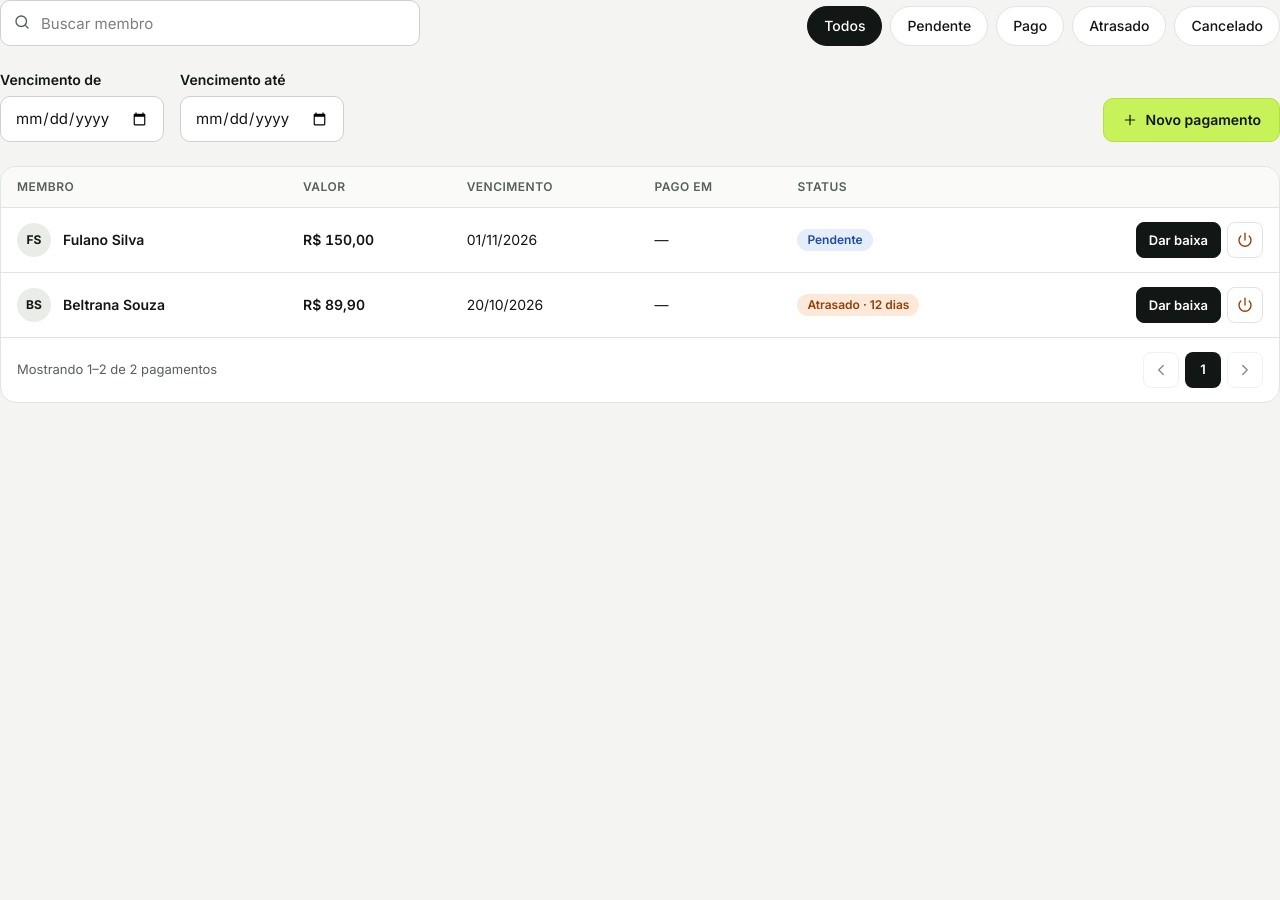
Test: TelaPagamentos › registra o pagamento sem data, avisa e mostra a linha recarregada como Pago, sem ações
Expected: the text "Fulano Silva" is shown, [63,230,144,250]
Click the button with aria-label "Registrar pagamento de Fulano Silva" at (1178, 240), box [1136,222,1221,258]
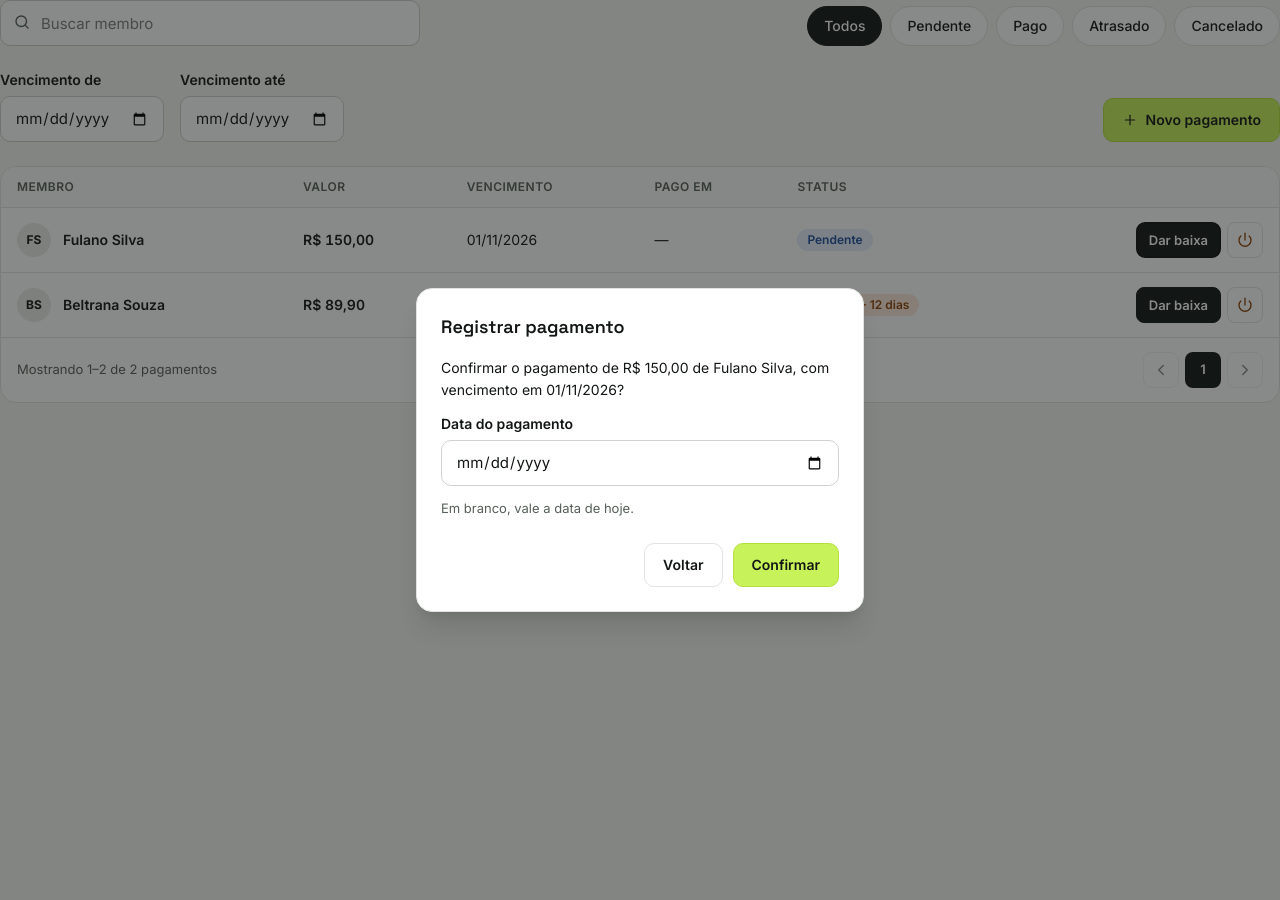
Now the date field labelled "Data do pagamento" is empty, box [441,440,839,486]
Now the text "Em branco, vale a data de hoje." is shown, box [441,500,634,516]
Click the button "Confirmar" at (786, 565), box [732,543,839,587]
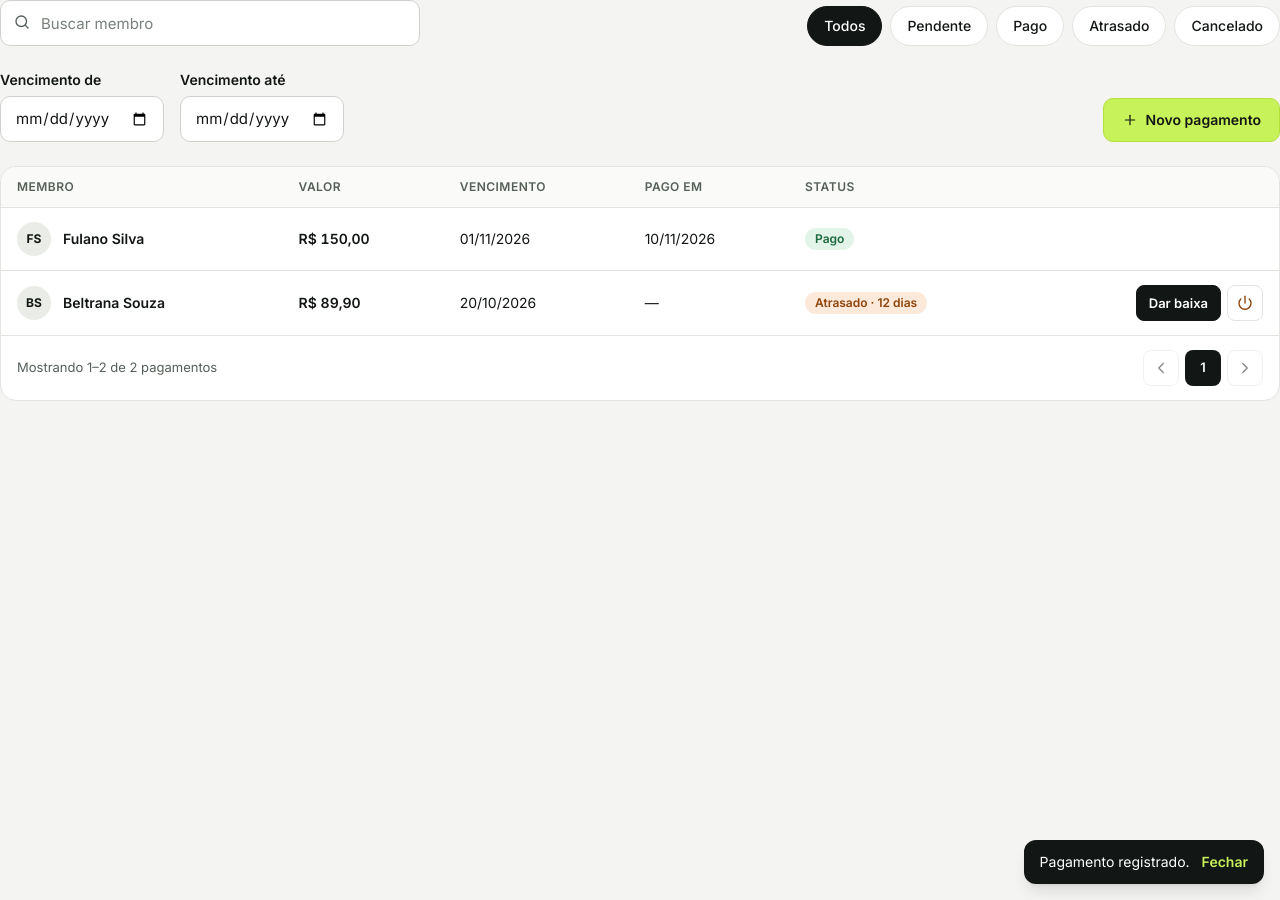
Now the text "Pagamento registrado." is shown, box [1040,852,1190,872]
Now the dialog is gone
Now the text "10/11/2026" is shown, box [629,208,789,270]
